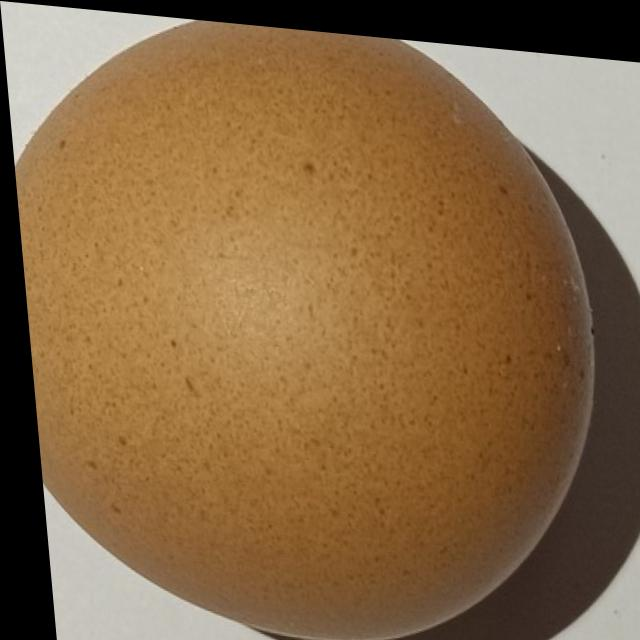unfresh: (0, 0, 608, 640)
